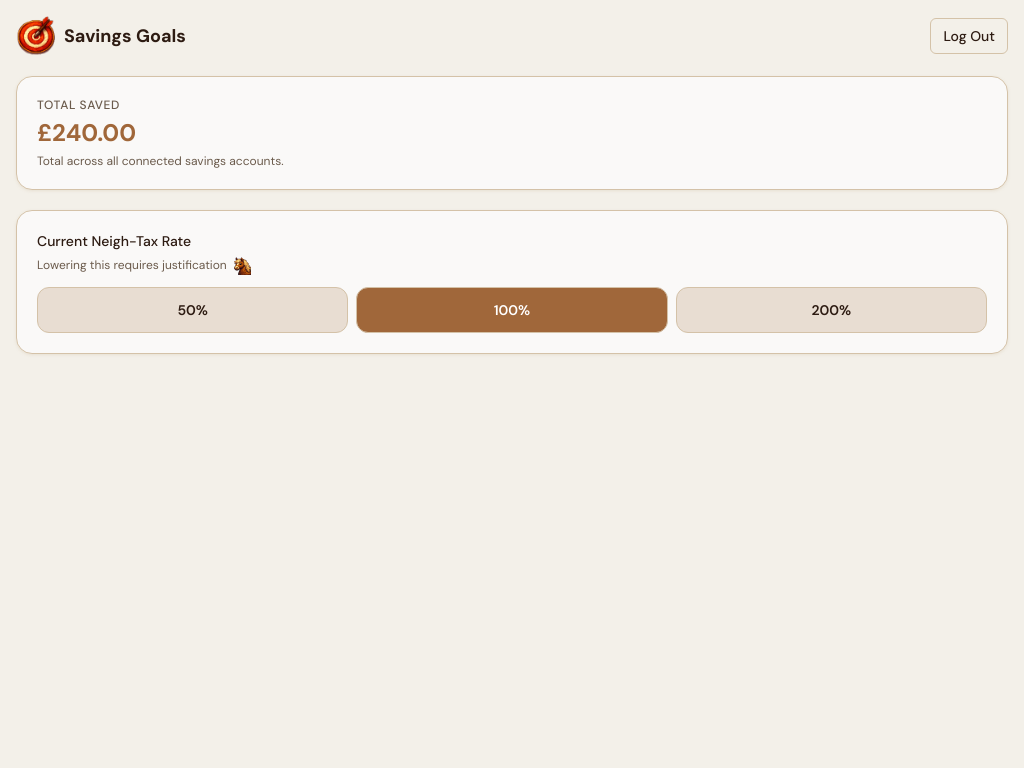
Test: GoalsTab › shows justification modal when neigh-tax is lowered
# Default is 100%, click 50% (lower)
Click the button "50%": click(193, 310) [37,287,348,333]
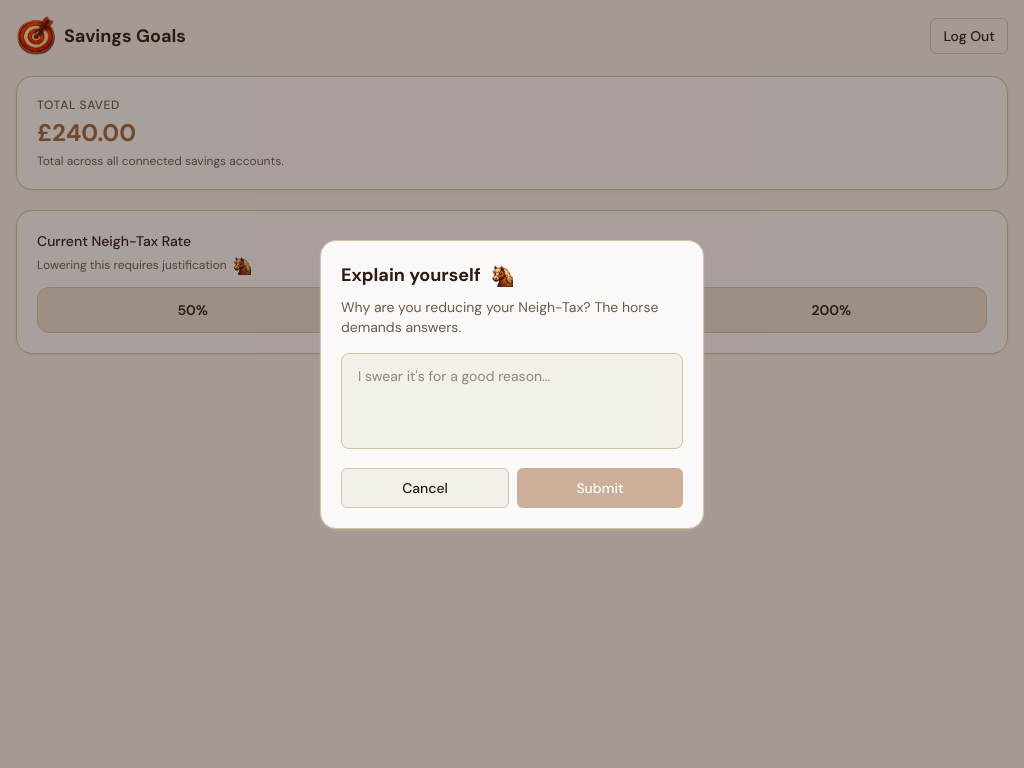
Check: the heading "Explain yourself" is shown, box [341,260,481,288]
